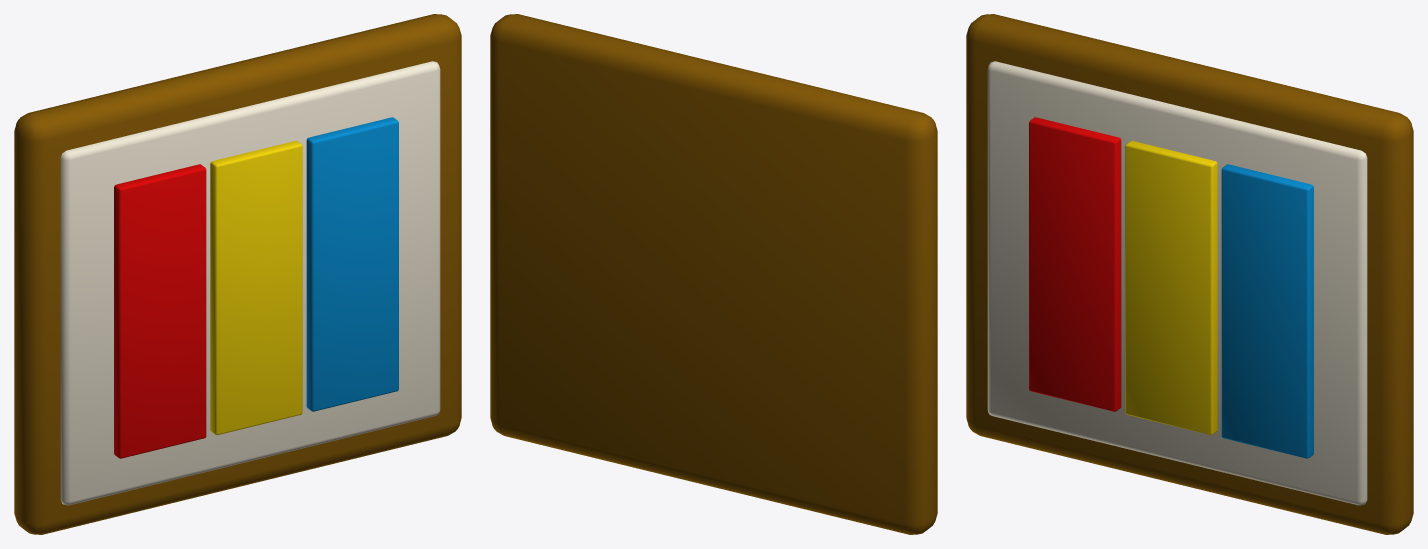
The model's file is picture_stripes.glb.
The picture shows the model from 3 angles, left to right: view 1: azimuth 30°, elevation 25°; view 2: azimuth 150°, elevation 25°; view 3: azimuth 330°, elevation 25°; orthographic projection.
Visible parts, largest first — view 1: mat, frame, st.002, st, st.001; view 2: frame; view 3: mat, frame, st, st.002, st.001.
Boxes of the visible parts, <box> form: mat: <box>60,61,440,505</box>; frame: <box>14,14,461,534</box>; st.002: <box>306,117,398,411</box>; st: <box>114,164,206,458</box>; st.001: <box>210,141,302,434</box>; frame: <box>490,14,937,534</box>; mat: <box>987,61,1367,505</box>; frame: <box>966,14,1413,534</box>; st: <box>1029,117,1121,411</box>; st.002: <box>1221,164,1313,458</box>; st.001: <box>1125,141,1217,434</box>.
Size of the model in its own units: 0.22 by 0.2 by 0.029.
